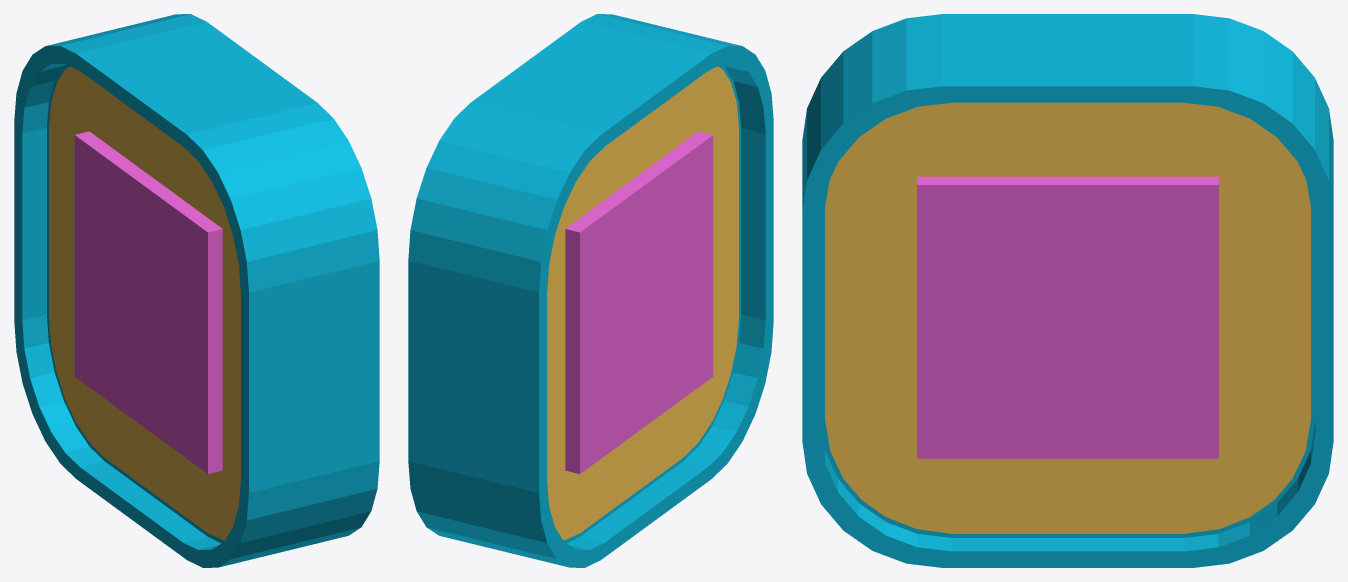
Rendered from Stop.glb.
3 views of the same model, side by side, from view 1: azimuth 30°, elevation 25°; view 2: azimuth 150°, elevation 25°; view 3: azimuth 270°, elevation 25° (orthographic). The views are drawn at different scales.
Visible parts, largest first — view 1: Button, Stop; view 2: Button, Stop; view 3: Button, Stop.
Boxes of the visible parts, <box> form: Button: <box>14,14,379,567</box>; Stop: <box>74,131,222,473</box>; Button: <box>408,14,773,567</box>; Stop: <box>565,131,713,473</box>; Button: <box>802,14,1333,567</box>; Stop: <box>917,176,1218,458</box>.
Size of the model in its own units: 0.4785 by 1.49 by 1.49.
